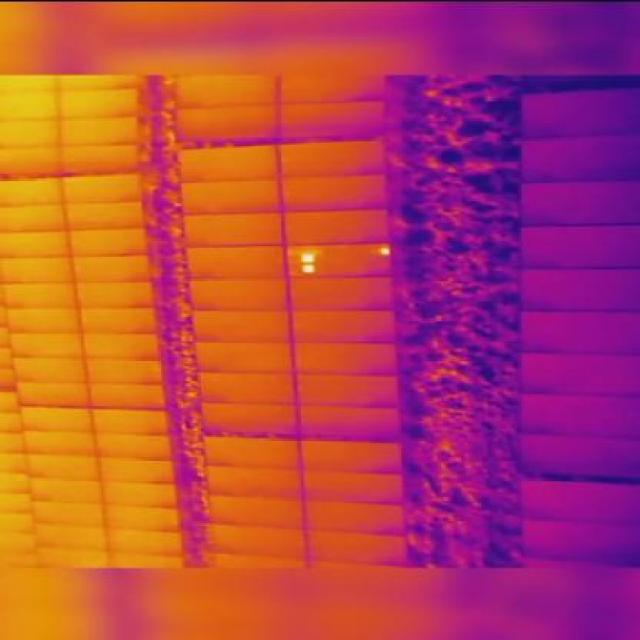hotspot: (296, 253, 318, 262), (376, 245, 392, 257), (300, 262, 315, 273)
